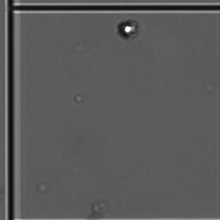Living Cell: (114, 17, 142, 48)
